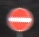No entry: (5, 5, 34, 32)
